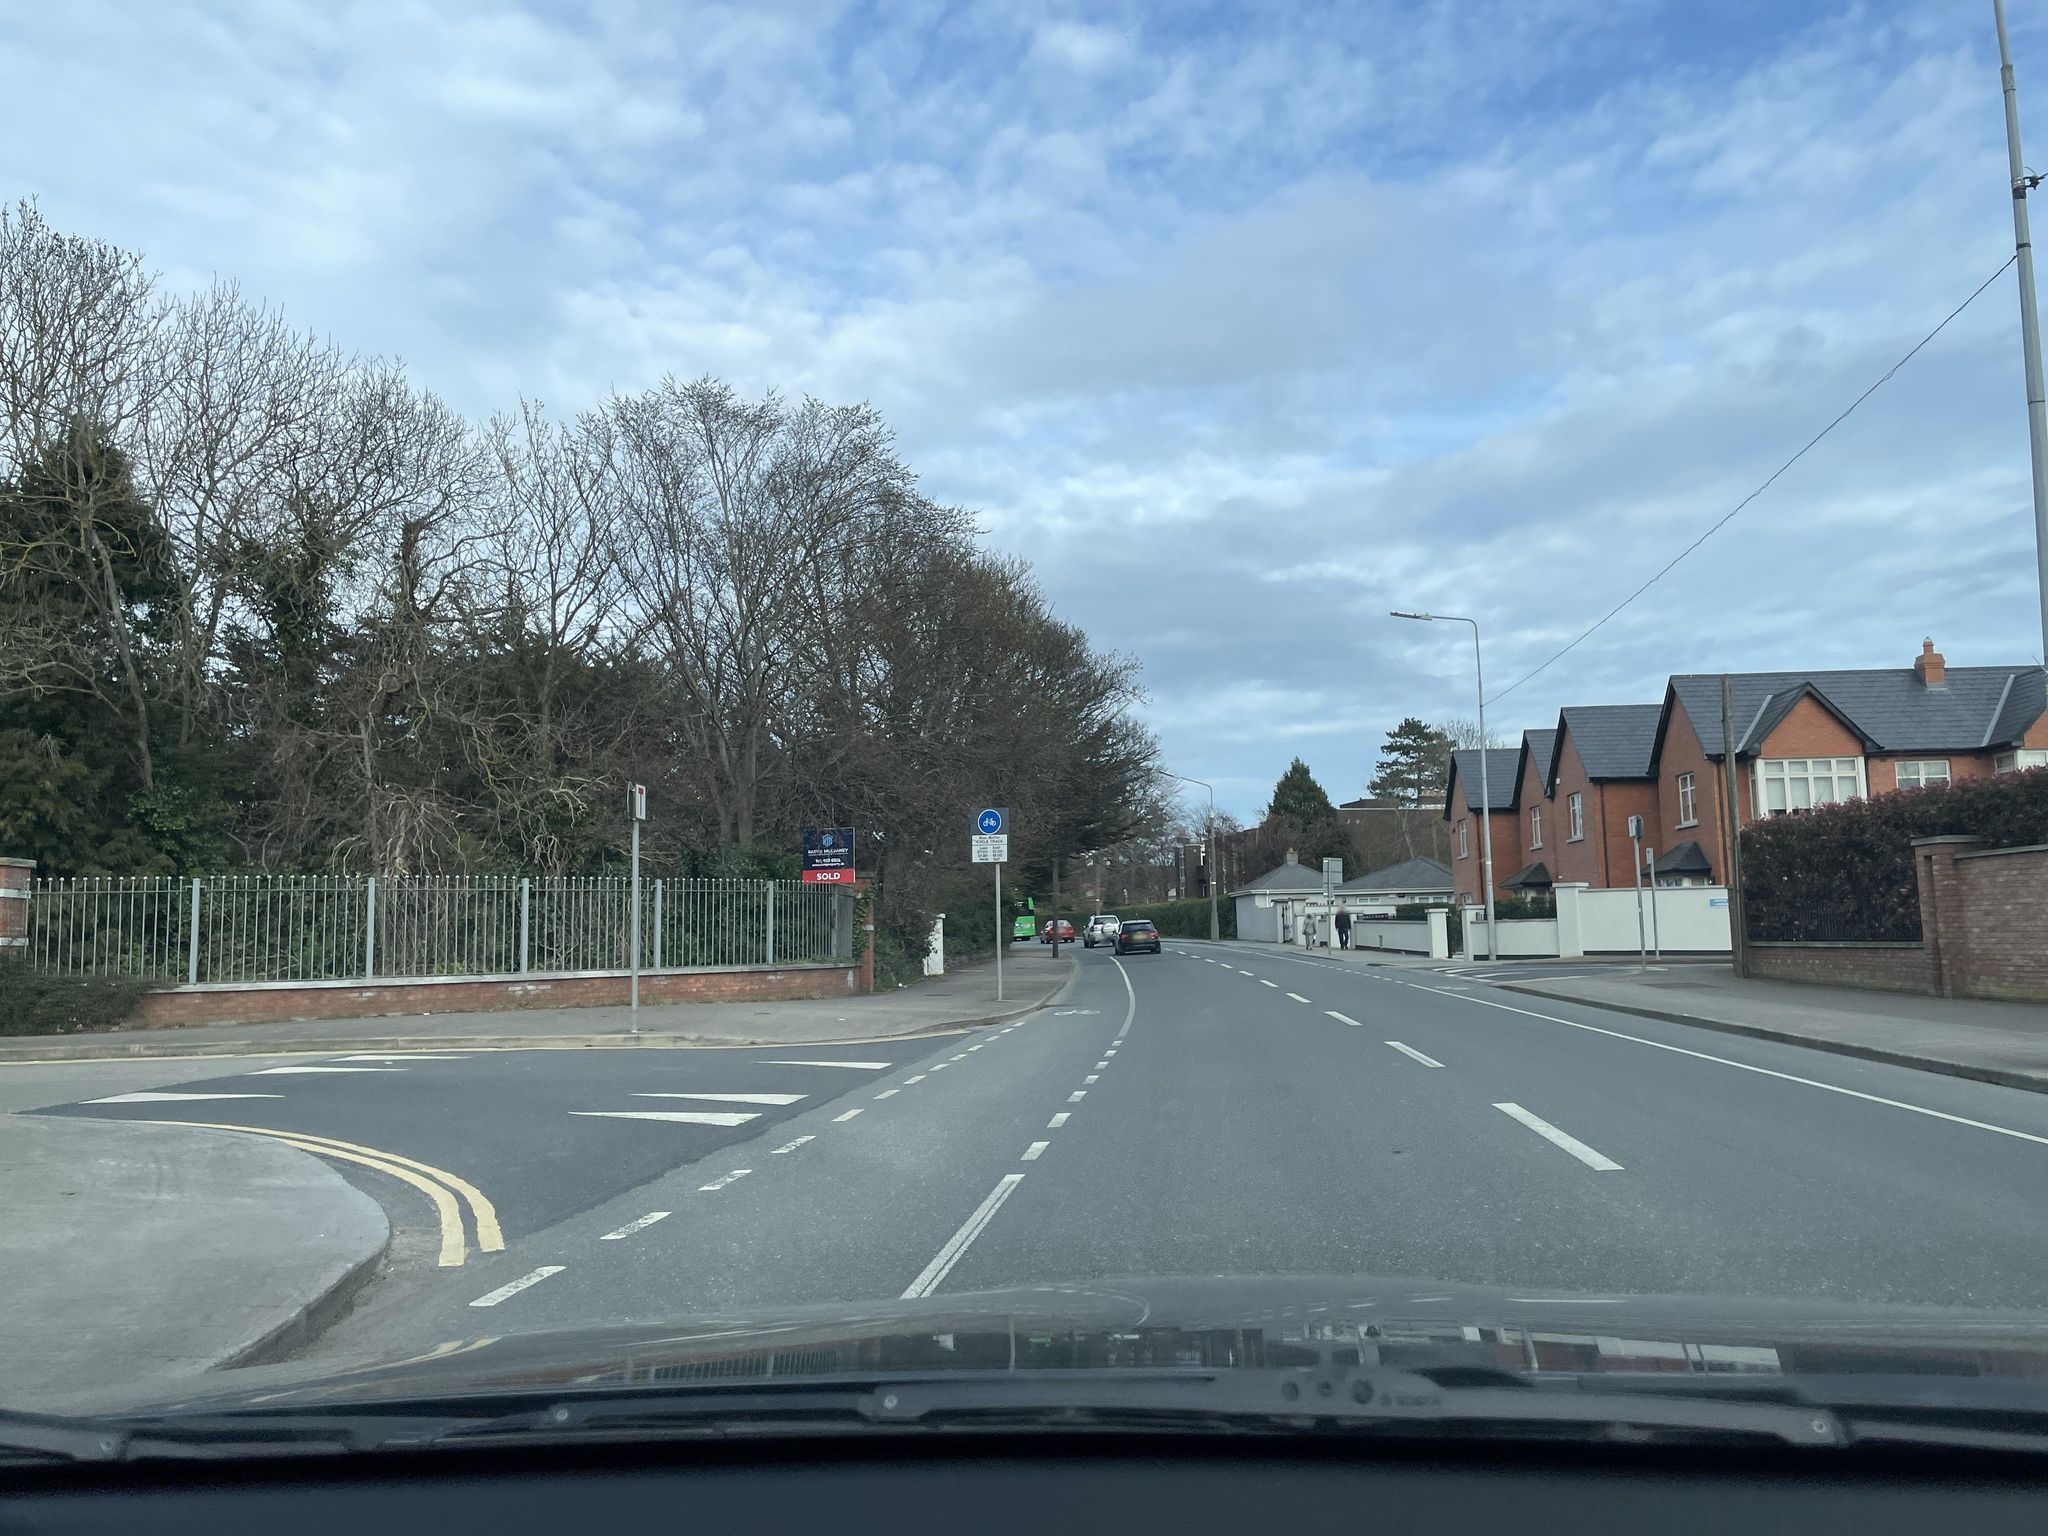property sign: (795, 815, 869, 887)
